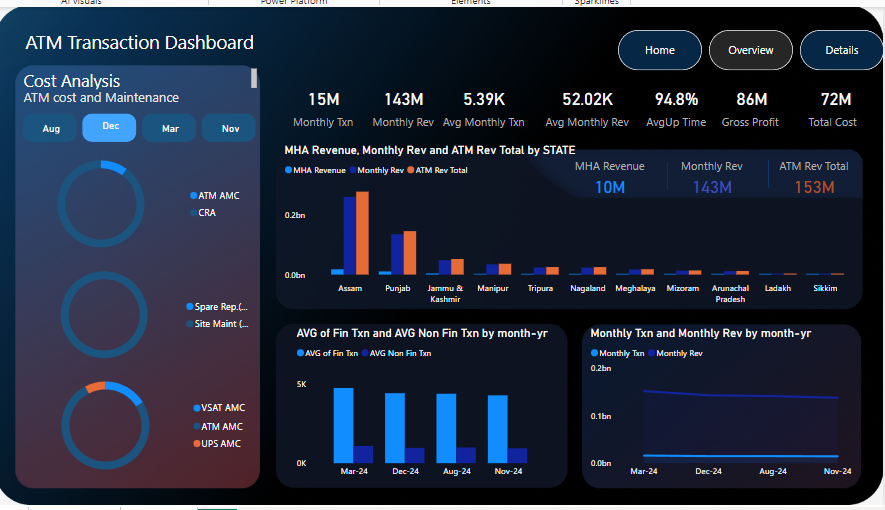

Layout of this report page (visuals, bound fields, positions):
{"tool":"powerbi","page":{"name":"Overview","canvas":[1280,720],"ordinal":1},"visuals":[{"type":"donutChart","fields":{"Y":["Sum(Dataset.ATM AMC)","Sum(Dataset.CRA)"]},"box":[20,200,346.7,166.7],"z":0},{"type":"donutChart","fields":{"Y":["Sum(Dataset.VSAT AMC)","Sum(Dataset.ATM AMC)","Sum(Dataset.UPS AMC)"]},"box":[28.8,518.4,345.6,168.5],"z":1000},{"type":"donutChart","fields":{"Y":["Sum(Dataset.Spare Rep.(UPS))","Sum(Dataset.Site Maint (Non Asset))"]},"box":[34.5,360,346.4,166.4],"z":2000},{"type":"clusteredColumnChart","fields":{"Y":["Sum(Dataset.MHA Revenue)","Sum(Dataset.Monthly Rev)","Sum(Dataset.ATM Rev Total)"],"Category":["Dataset.STATE"]},"box":[411.8,195.8,843.8,240.5],"z":3000},{"type":"clusteredColumnChart","fields":{"Y":["Avg(Dataset.Fin Txn)","Avg(Dataset.Non Fin Txn)"],"Category":["Dataset.month-yr"]},"box":[429.1,459.4,374.4,227.5],"z":4000},{"type":"advancedSlicerVisual","fields":{"Values":["Dataset.Short_month"]},"box":[35,148.3,346.7,51.7],"z":5000},{"type":"areaChart","fields":{"Category":["Dataset.month-yr"],"Y":["Sum(Dataset.Monthly Txn)","Sum(Dataset.Monthly Rev)"]},"box":[852.5,459.4,403.2,227.5],"z":6000},{"type":"textbox","box":[35.7,82.9,345.7,40],"z":7000},{"type":"textbox","box":[35.7,112.9,338.6,47.1],"z":8000},{"type":"card","fields":{"Values":["Sum(Dataset.Monthly Txn)"]},"box":[411.4,91.4,121.4,104.3],"z":9000},{"type":"card","fields":{"Values":["Sum(Dataset.Monthly Rev)"]},"box":[535.7,91.4,104.3,104.3],"z":10000},{"type":"card","fields":{"Values":["Avg(Dataset.Monthly Txn)"]},"box":[640,91.4,128.6,104.3],"z":11000},{"type":"card","fields":{"Values":["Avg(Dataset.Monthly Rev)"]},"box":[784.3,91.4,135.7,104.3],"z":12000},{"type":"card","fields":{"Values":["Avg(Dataset.Up Time)"]},"box":[920,91.4,121.4,104.3],"z":13000},{"type":"card","fields":{"Values":["Sum(Dataset. Total Cost  )"]},"box":[1150,91.4,120,104.3],"z":14000},{"type":"card","fields":{"Values":["Sum(Dataset. Gross Profit )"]},"box":[1030,91.4,120,104.3],"z":15000},{"type":"cardVisual","fields":{"Data":["Sum(Dataset.MHA Revenue)","Sum(Dataset.Monthly Rev)","Sum(Dataset.ATM Rev Total)"]},"box":[810,200,445.7,82.9],"z":16000},{"type":"pageNavigator","box":[896.7,33.3,383.3,58.3],"z":17000},{"type":"textbox","box":[1.7,25.8,413.3,65.8],"z":18000}]}

Visuals, with their boxes on the page's 1280x720 design canvas (x1, y1, x2, y2). These are canvas units, not pixel positions in the 885x510 screenshot, which may show the page scaled, cropped or inside an application window:
donutChart - Sum(Dataset.ATM AMC) x Sum(Dataset.CRA): l=20, t=200, r=367, b=367
donutChart - Sum(Dataset.VSAT AMC) x Sum(Dataset.ATM AMC): l=29, t=518, r=374, b=687
donutChart - Sum(Dataset.Spare Rep.(UPS)) x Sum(Dataset.Site Maint (Non Asset)): l=34, t=360, r=381, b=526
clusteredColumnChart - Sum(Dataset.MHA Revenue) x Sum(Dataset.Monthly Rev): l=412, t=196, r=1256, b=436
clusteredColumnChart - Avg(Dataset.Fin Txn) x Avg(Dataset.Non Fin Txn): l=429, t=459, r=804, b=687
advancedSlicerVisual - Dataset.Short_month: l=35, t=148, r=382, b=200
areaChart - Dataset.month-yr x Sum(Dataset.Monthly Txn): l=852, t=459, r=1256, b=687
textbox: l=36, t=83, r=381, b=123
textbox: l=36, t=113, r=374, b=160
card - Sum(Dataset.Monthly Txn): l=411, t=91, r=533, b=196
card - Sum(Dataset.Monthly Rev): l=536, t=91, r=640, b=196
card - Avg(Dataset.Monthly Txn): l=640, t=91, r=769, b=196
card - Avg(Dataset.Monthly Rev): l=784, t=91, r=920, b=196
card - Avg(Dataset.Up Time): l=920, t=91, r=1041, b=196
card - Sum(Dataset. Total Cost  ): l=1150, t=91, r=1270, b=196
card - Sum(Dataset. Gross Profit ): l=1030, t=91, r=1150, b=196
cardVisual - Sum(Dataset.MHA Revenue) x Sum(Dataset.Monthly Rev): l=810, t=200, r=1256, b=283
pageNavigator: l=897, t=33, r=1280, b=92
textbox: l=2, t=26, r=415, b=92
